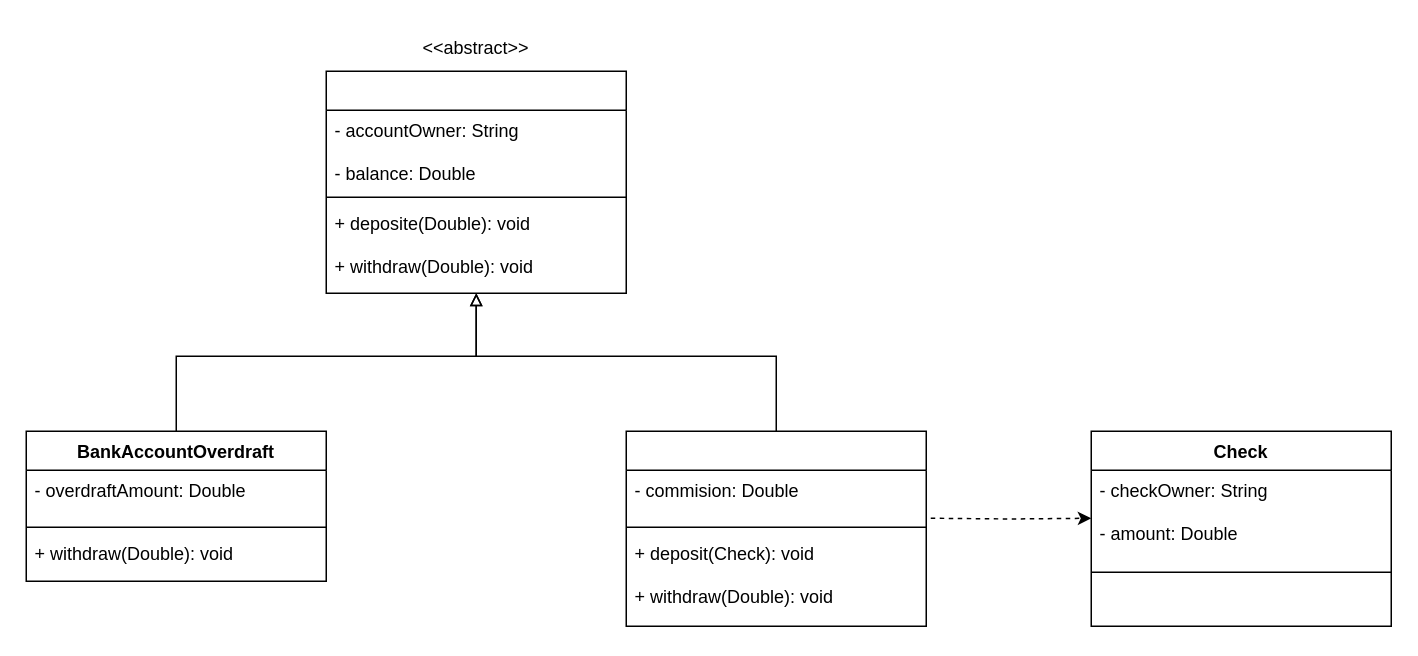
Some shapes in this 1418 by 656 pixel diagram are drawn without their labels. The shapes that lost their labels are listed below. From the top down, each one's box as (x1, y1, x2, y2) in pixels, then its label:
(325, 70, 626, 293): BankAccount
(625, 430, 926, 626): BankAccountCommision
